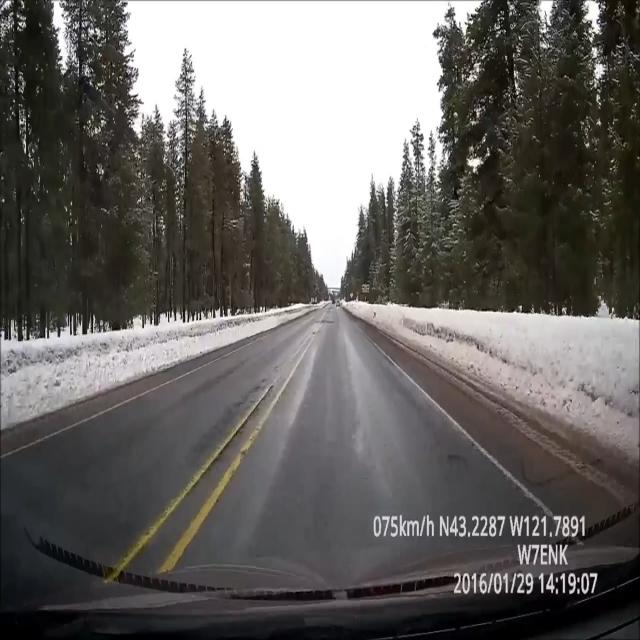Pothole: (446, 439, 471, 485)
